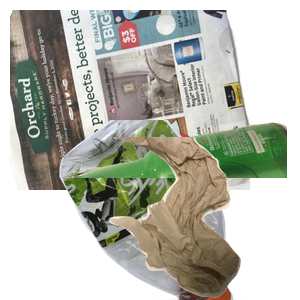glass: (60, 120, 300, 300)
paper: (10, 10, 250, 190)
plastic: (57, 120, 293, 300)
trash: (103, 137, 300, 300)
